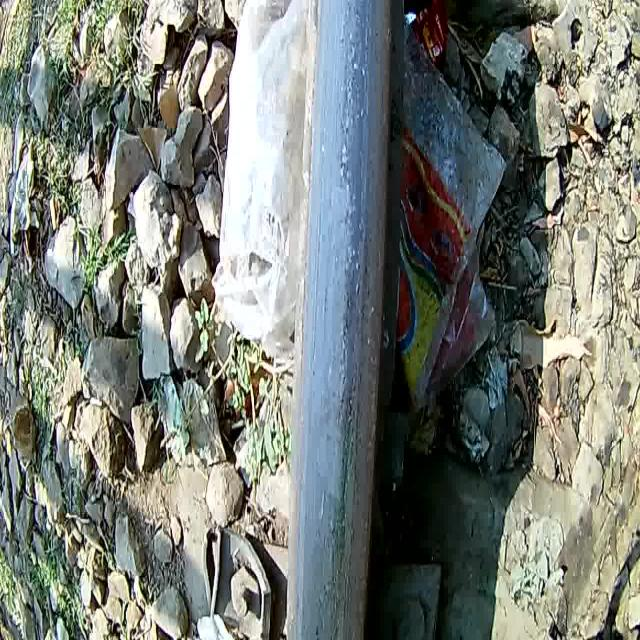Flakings: (313, 0, 378, 640)
